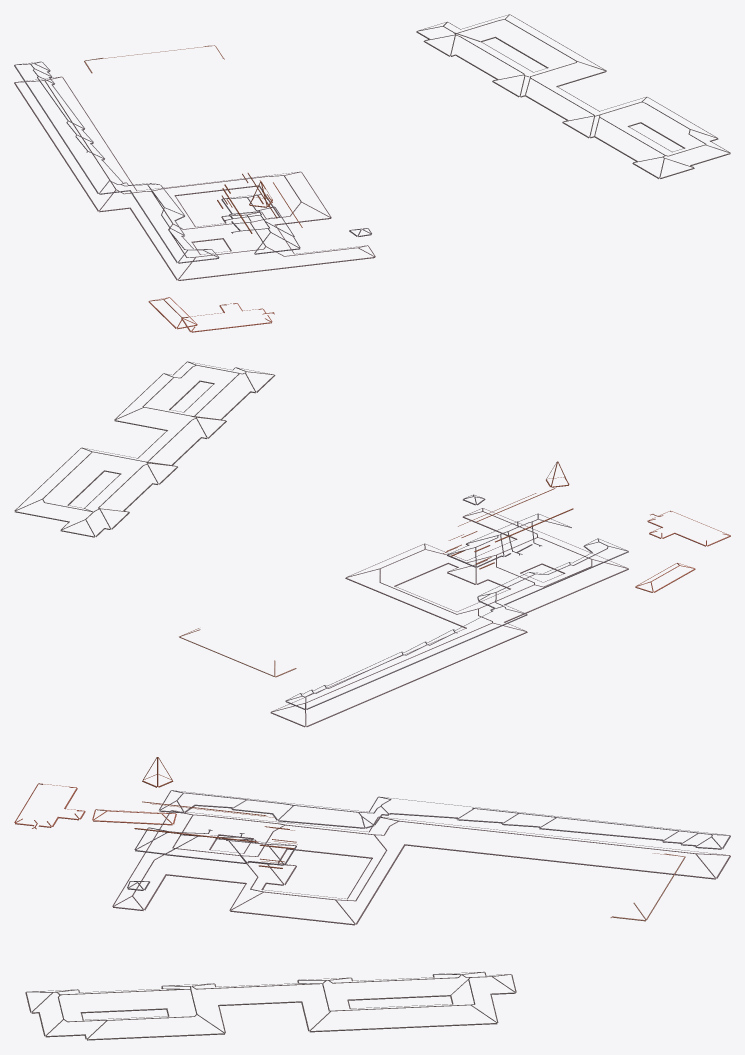
3 views of the same model, one above another, from view 1: azimuth 30°, elevation 25°; view 2: azimuth 150°, elevation 25°; view 3: azimuth 270°, elevation 25° (orthographic). The views are drawn at different scales.
Parts seen in each view (by area): view 1: detail; view 2: detail; view 3: detail.
Part boxes in pixels (bbox=[...]): detail: bbox=[14, 14, 730, 332]; detail: bbox=[14, 361, 730, 727]; detail: bbox=[14, 757, 730, 1040].
Size of the model in its own units: 190 by 33.4 by 187.
